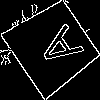A: (27, 22, 85, 76)
